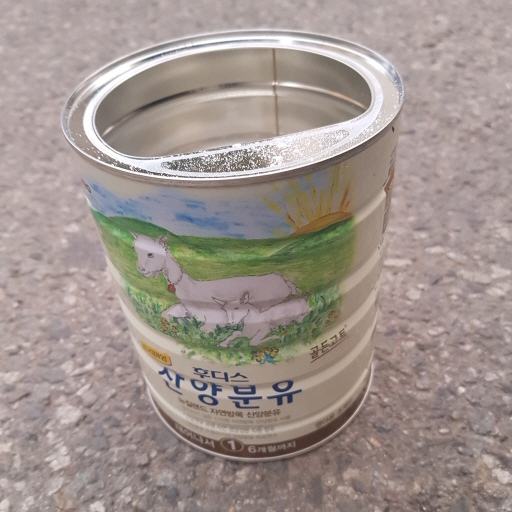Metal_1: (61, 28, 405, 466)
